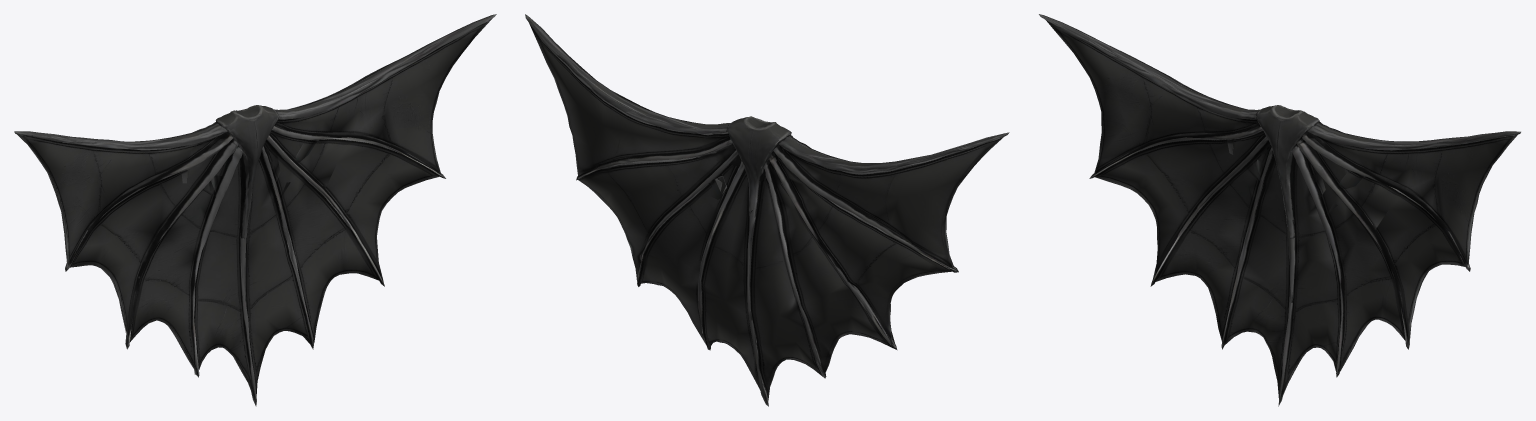
Rendered from original_glb.glb.
3 views of the same model, side by side, from view 1: azimuth 30°, elevation 25°; view 2: azimuth 150°, elevation 25°; view 3: azimuth 330°, elevation 25° (orthographic).
Visible parts, largest first — view 1: Scalloped Bat Wing Membrane; view 2: Scalloped Bat Wing Membrane; view 3: Scalloped Bat Wing Membrane.
Boxes of the visible parts, left/top/right/bottom form: Scalloped Bat Wing Membrane: left=14, top=14, right=496, bottom=406; Scalloped Bat Wing Membrane: left=525, top=14, right=1009, bottom=406; Scalloped Bat Wing Membrane: left=1039, top=14, right=1520, bottom=406.
Bounding box in the file's own units: 0.998 × 0.6582 × 0.084.
Materials: 1 (1 with a texture image).
